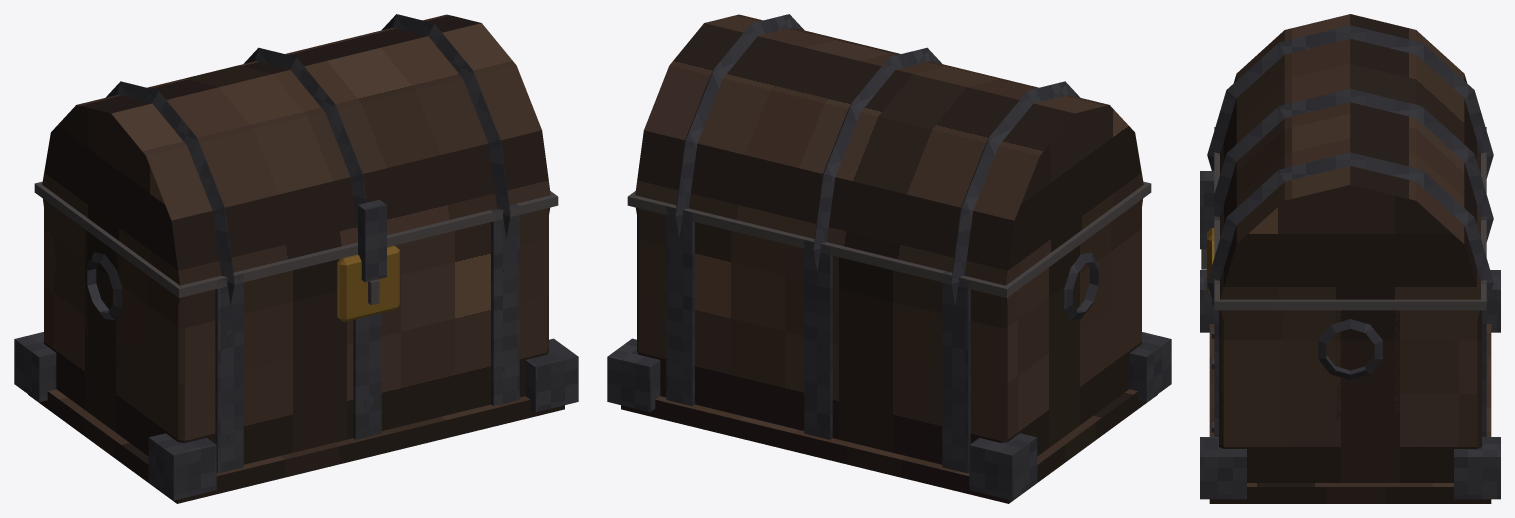
The model's file is castle_chest.obj.
The picture shows the model from 3 angles, left to right: view 1: azimuth 30°, elevation 25°; view 2: azimuth 150°, elevation 25°; view 3: azimuth 270°, elevation 25°; orthographic projection. The views are drawn at different scales.
Parts seen in each view (by area): view 1: castle_chest; view 2: castle_chest; view 3: castle_chest.
Part boxes in pixels (<box>): castle_chest: <box>14,14,578,503</box>; castle_chest: <box>607,14,1171,503</box>; castle_chest: <box>1200,14,1500,503</box>.
Size of the model in its own units: 0.94 by 0.765 by 0.64.
